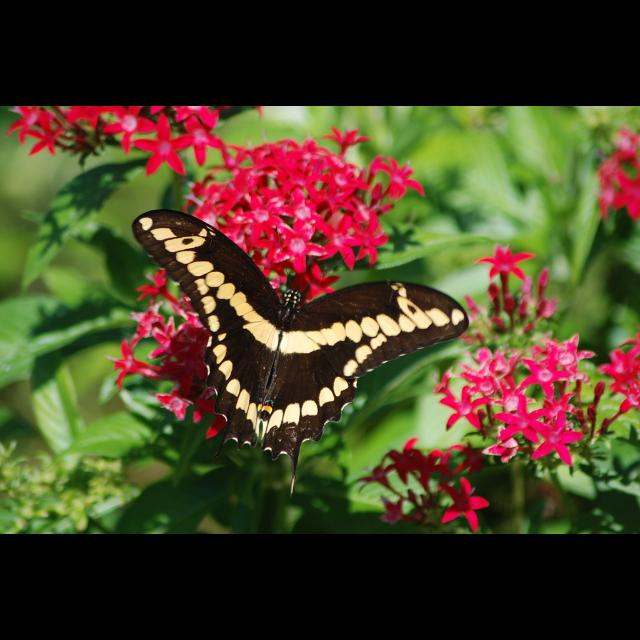Flower: (108, 124, 430, 444), (426, 332, 590, 470), (5, 106, 255, 180), (354, 434, 496, 534), (598, 123, 640, 233), (469, 236, 541, 298), (597, 334, 639, 414)
